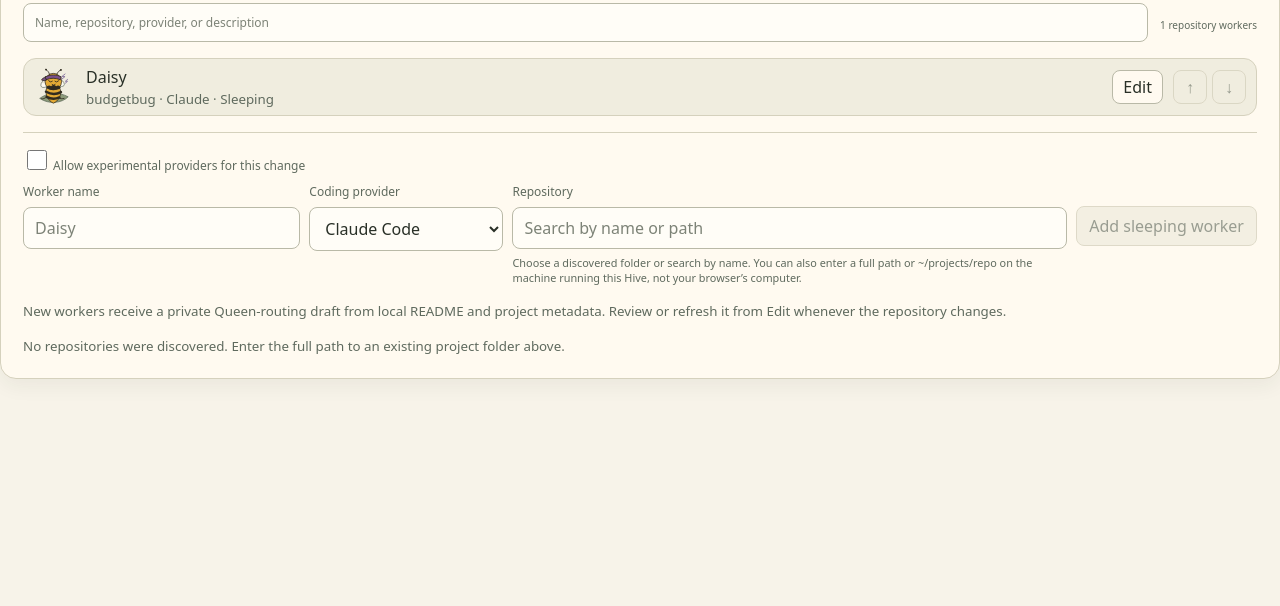
experimental provider change requires fresh consent after a completed edit
Click the button "Edit": (1138, 87) x1=1112 y1=70 x2=1163 y2=104
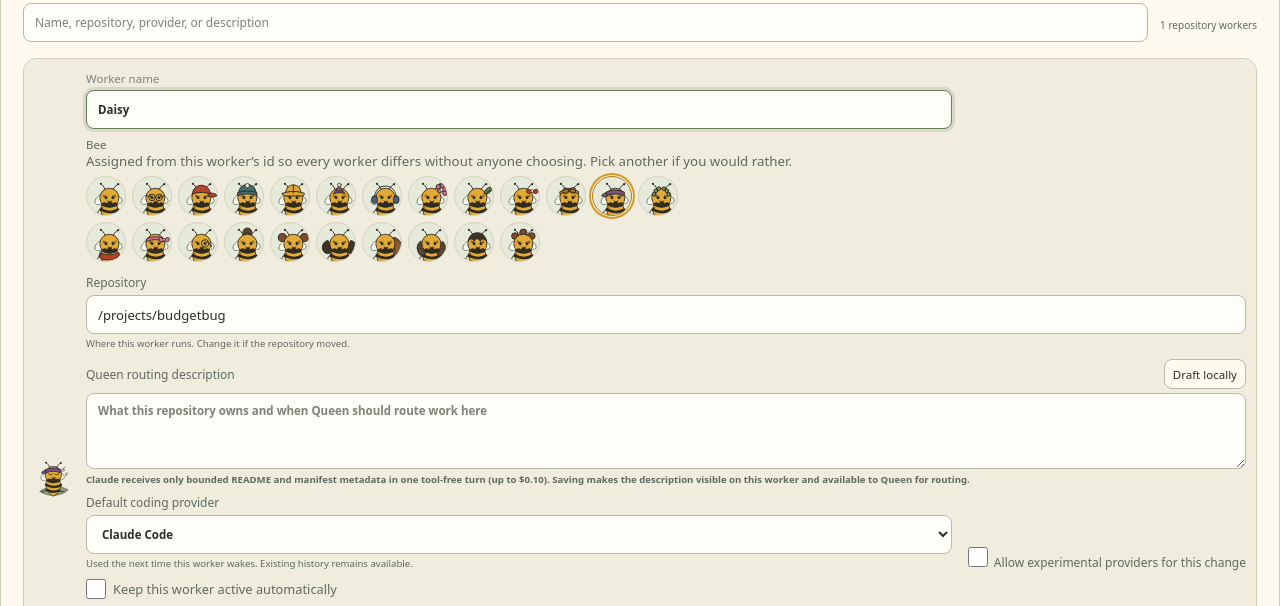
Click the checkbox labelled "Allow experimental providers for this change": (978, 557) x1=968 y1=547 x2=988 y2=567
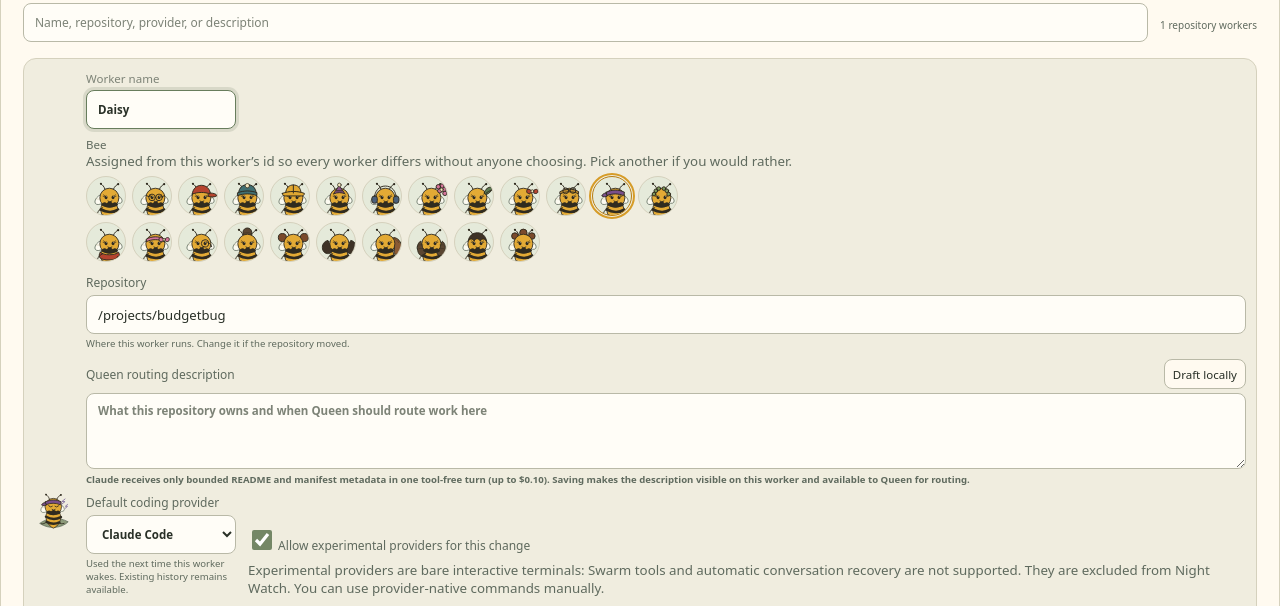
Select "Gemini · experimental" in the dropdown labelled "Default coding provider": (161, 535) x1=86 y1=515 x2=236 y2=554
(page scrolled)
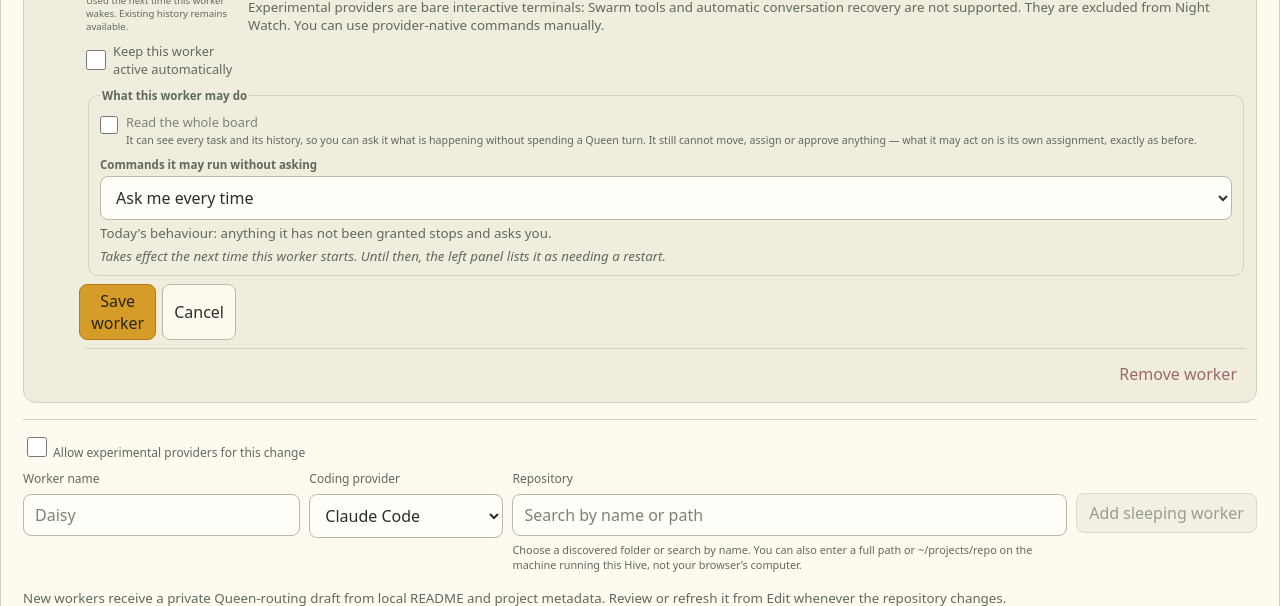
Click the button "Save worker": (118, 312) x1=79 y1=284 x2=156 y2=340
(page scrolled)
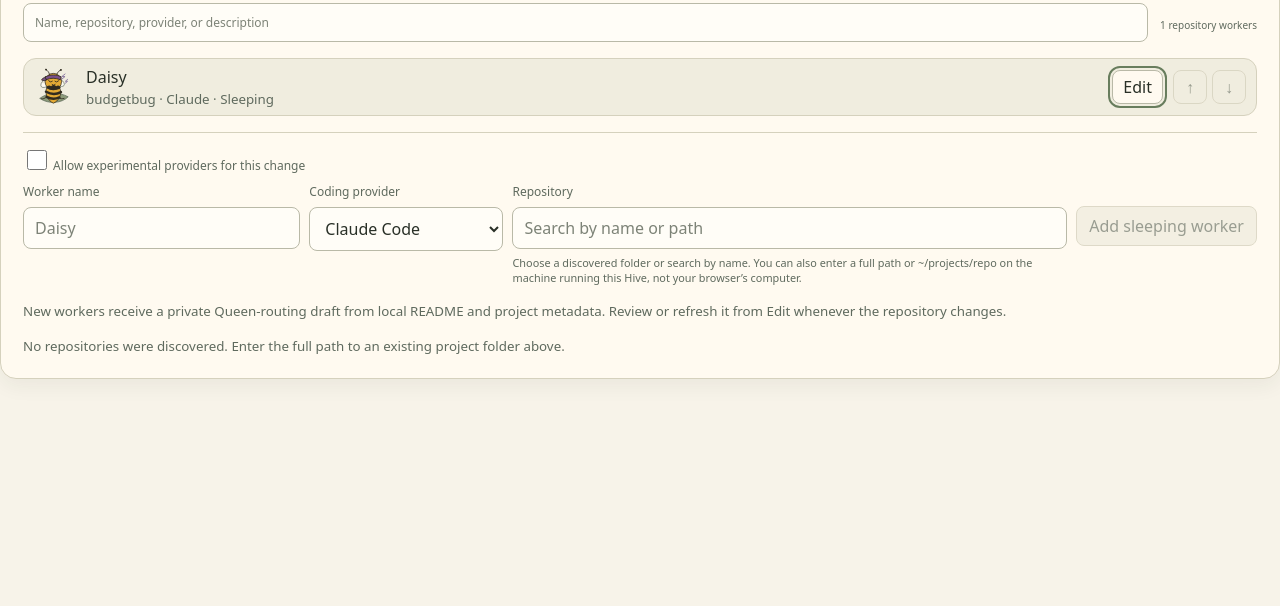
Click the button "Edit": (1138, 87) x1=1112 y1=70 x2=1163 y2=104
(page scrolled)
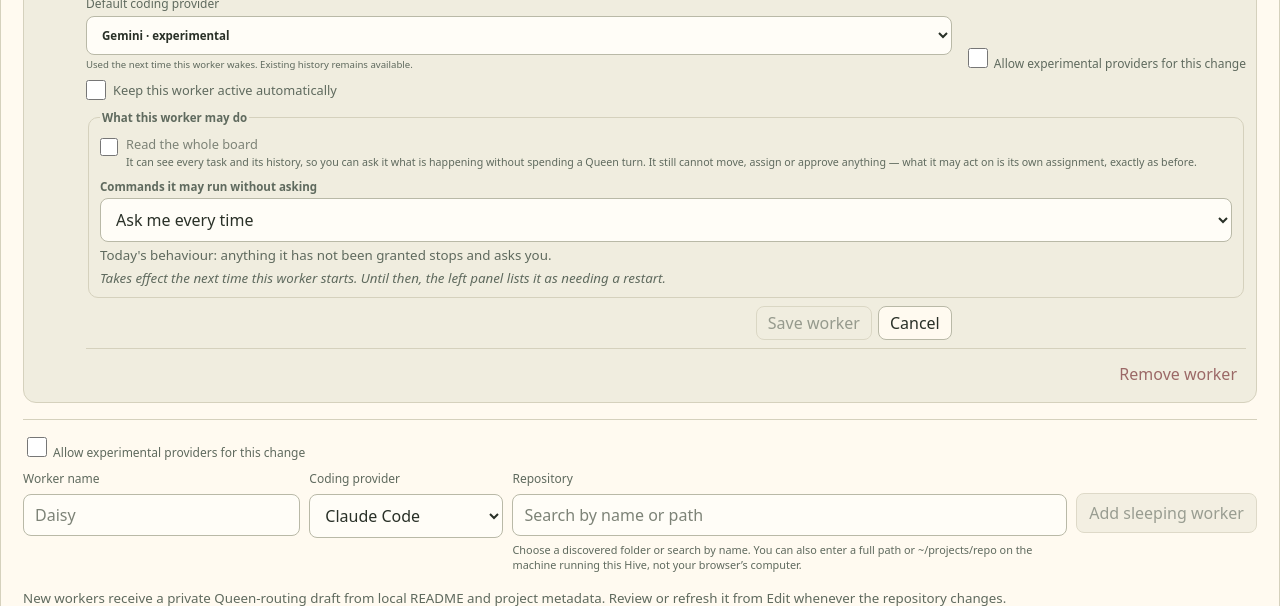
Now the 1st checkbox labelled "Allow experimental providers for this change" is not checked, box x1=968 y1=48 x2=988 y2=68
Now the dropdown labelled "Default coding provider" shows "Gemini · experimental", box x1=86 y1=16 x2=952 y2=55
Now the button "Save worker" is disabled, box x1=756 y1=306 x2=872 y2=340
